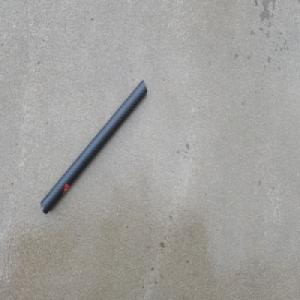LuggagePart: (40, 79, 147, 216)
